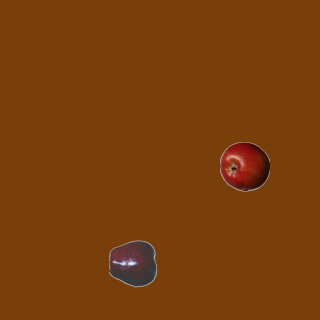Apple Braeburn: (219, 141, 269, 191)
Apple Red Delicious: (108, 238, 158, 288)
